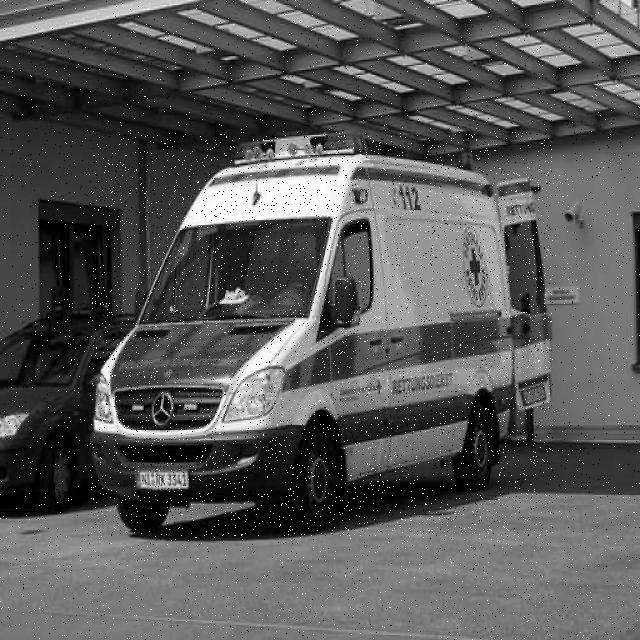Ambulance: (90, 132, 553, 536)
